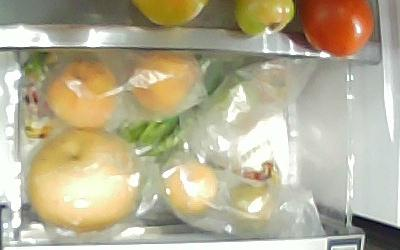peach_vinyl: (46, 61, 118, 129), (130, 51, 199, 113)
pear_vinyl: (28, 130, 139, 230)
tangerine_vinyl: (166, 160, 221, 216), (231, 185, 274, 234)
tomato_vinyl: (248, 57, 292, 101)
